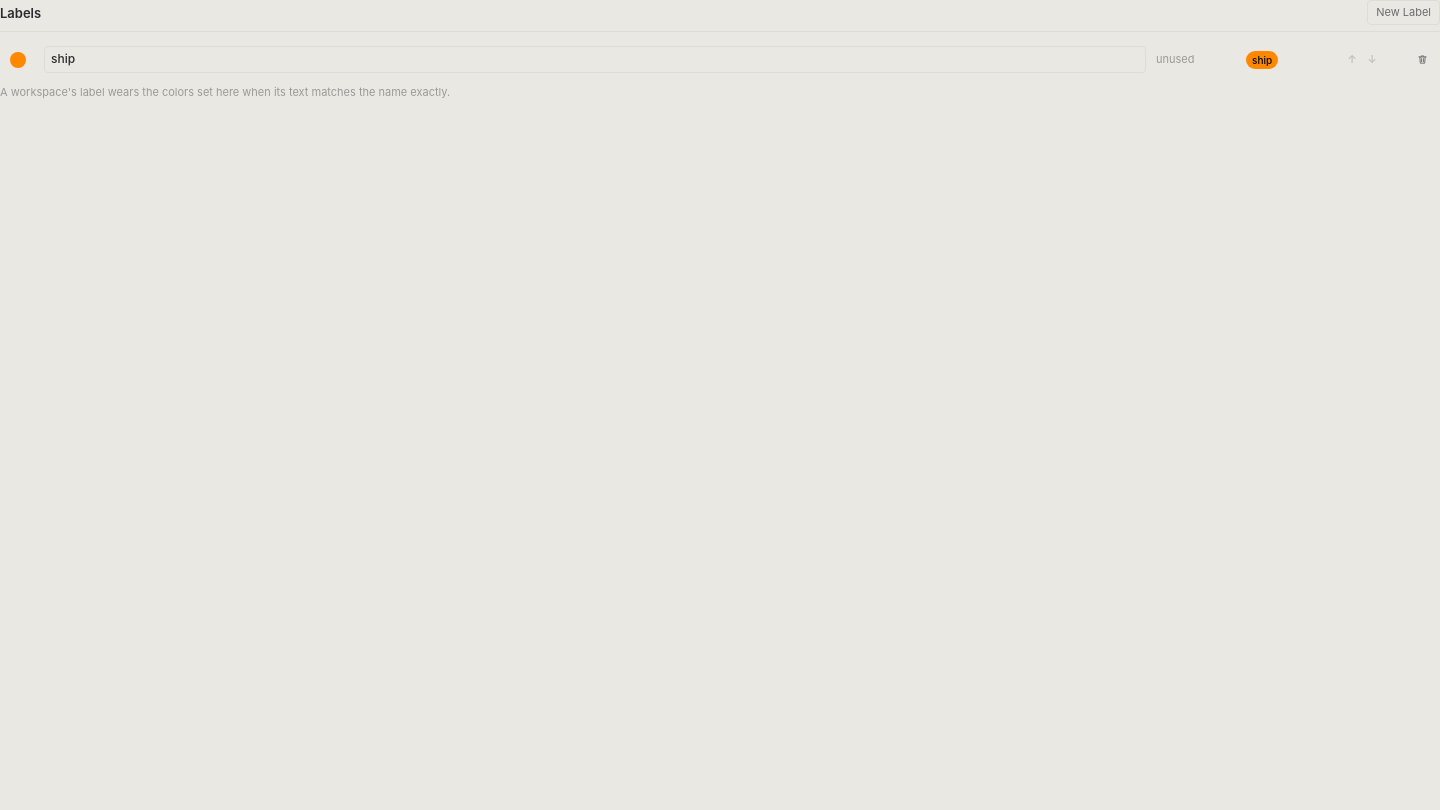
Scenario: the custom view (§N38) › opens on the stored hex, verbatim, and writes nothing until something moves
Click the button with test id "label-color-ship-trigger" at (18, 60), box [10,52,26,68]
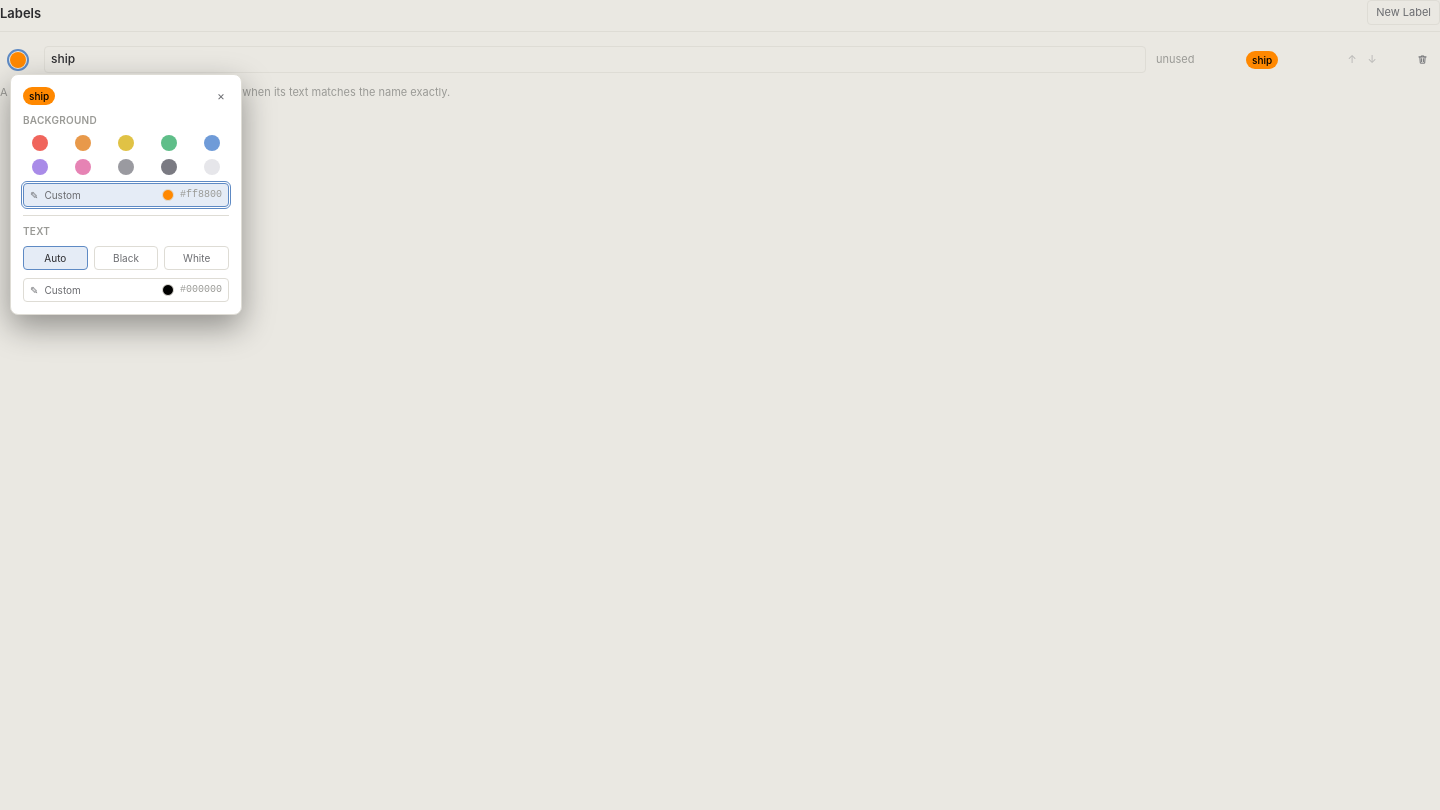
Expected: the text with test id "label-flyover-bg-custom-hex" reads "#ff8800", [180,189,222,200]
Click the button with test id "label-flyover-bg-custom" at (126, 195), box [23,183,229,207]
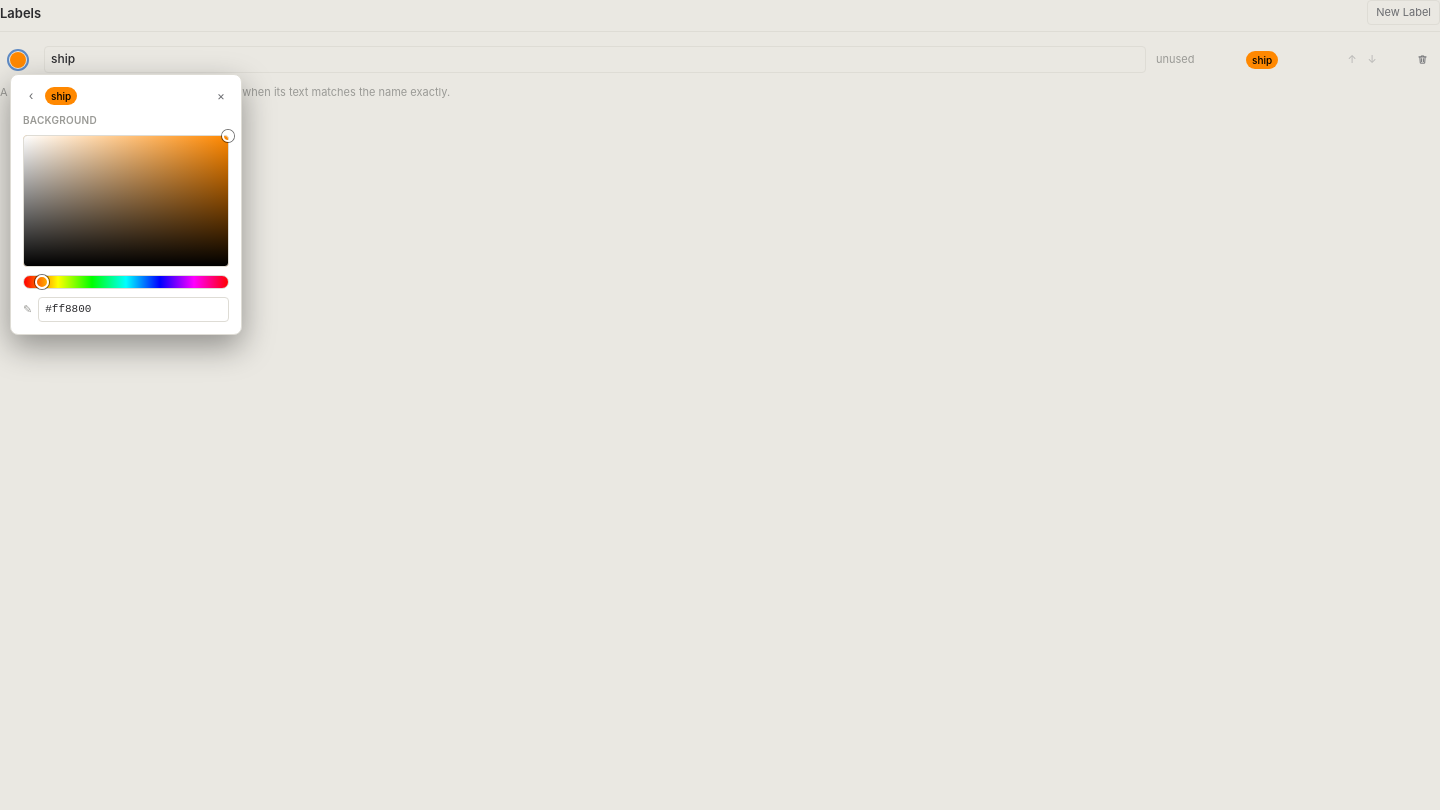
Expected: the field with test id "label-flyover-hex" holds "#ff8800", [38,297,229,322]
